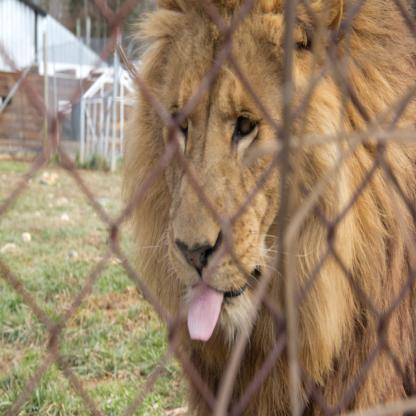lion: (133, 0, 357, 366)
